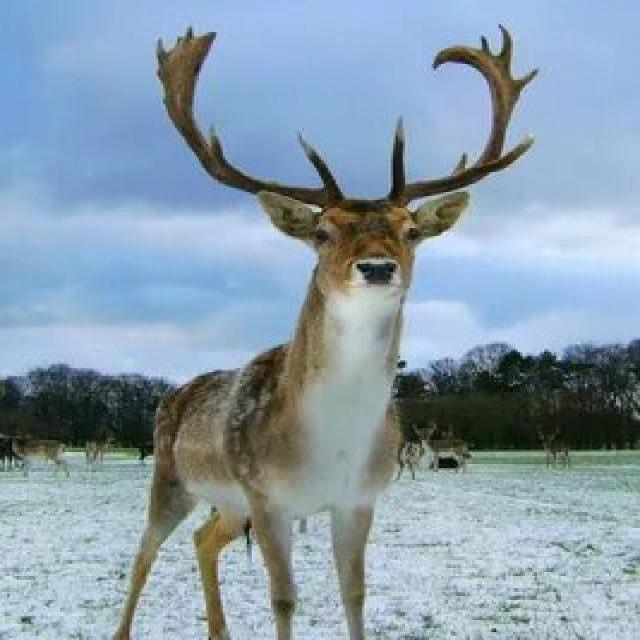deer: (96, 1, 547, 634)
